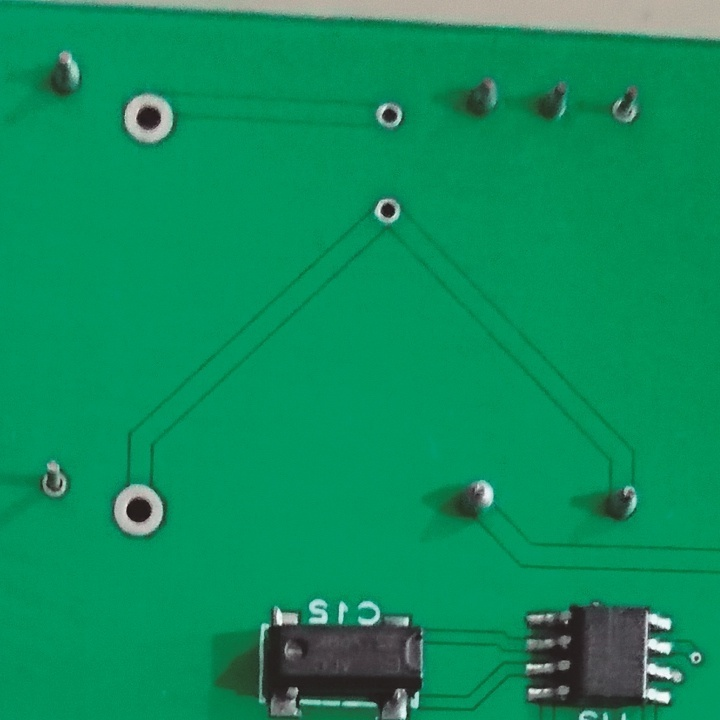F: (111, 475, 173, 539), (119, 92, 185, 149), (36, 457, 73, 501), (609, 87, 644, 130), (374, 98, 404, 140), (373, 192, 400, 233)
